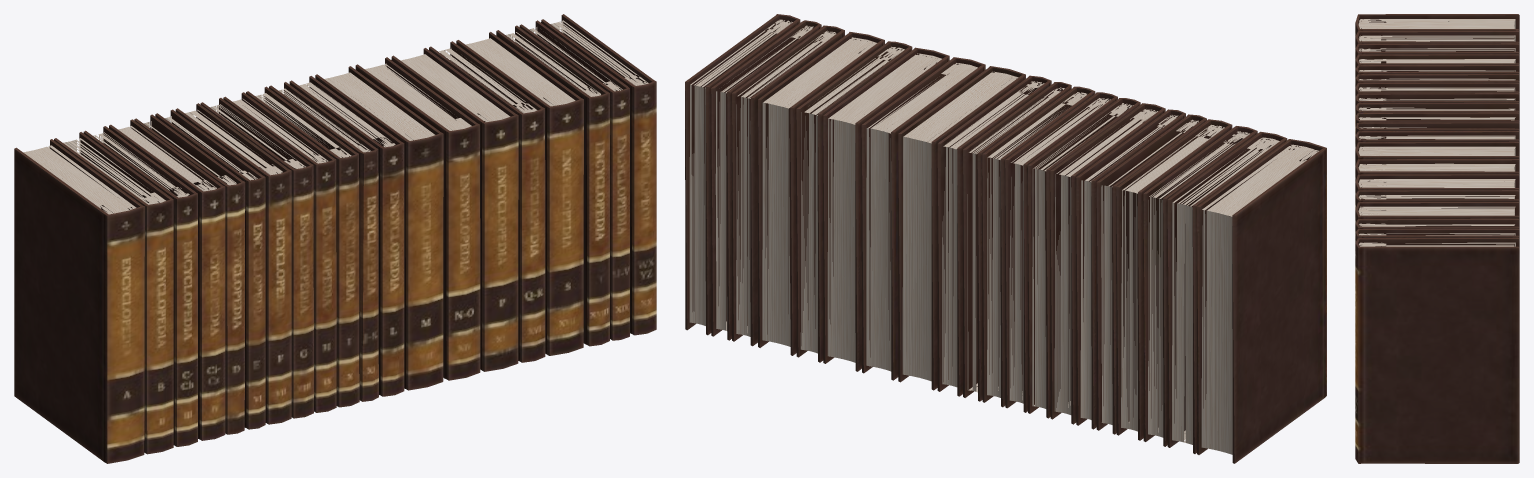
File: book_encyclopedia_set_01.glb
3 views of the same model, side by side, from view 1: azimuth 30°, elevation 25°; view 2: azimuth 150°, elevation 25°; view 3: azimuth 270°, elevation 25° (orthographic). The views are drawn at different scales.
Visible parts, largest first — view 1: book_encyclopedia_set_01_book01, book_encyclopedia_set_01_book13, book_encyclopedia_set_01_book15, book_encyclopedia_set_01_book17, book_encyclopedia_set_01_book14, book_encyclopedia_set_01_book02, book_encyclopedia_set_01_book04, book_encyclopedia_set_01_book16, book_encyclopedia_set_01_book20, book_encyclopedia_set_01_book07, book_encyclopedia_set_01_book18, book_encyclopedia_set_01_book12 (+8 smaller); view 2: book_encyclopedia_set_01_book01, book_encyclopedia_set_01_book13, book_encyclopedia_set_01_book15, book_encyclopedia_set_01_book17, book_encyclopedia_set_01_book14, book_encyclopedia_set_01_book02, book_encyclopedia_set_01_book04, book_encyclopedia_set_01_book16, book_encyclopedia_set_01_book07, book_encyclopedia_set_01_book20, book_encyclopedia_set_01_book18, book_encyclopedia_set_01_book12 (+8 smaller); view 3: book_encyclopedia_set_01_book20, book_encyclopedia_set_01_book13, book_encyclopedia_set_01_book01, book_encyclopedia_set_01_book17, book_encyclopedia_set_01_book15, book_encyclopedia_set_01_book14, book_encyclopedia_set_01_book02, book_encyclopedia_set_01_book16, book_encyclopedia_set_01_book03, book_encyclopedia_set_01_book07, book_encyclopedia_set_01_book12, book_encyclopedia_set_01_book10 (+8 smaller).
Boxes of the visible parts, bbox=[...] form: book_encyclopedia_set_01_book01: bbox=[14, 139, 144, 463]; book_encyclopedia_set_01_book13: bbox=[315, 66, 443, 390]; book_encyclopedia_set_01_book15: bbox=[391, 48, 518, 371]; book_encyclopedia_set_01_book17: bbox=[456, 32, 583, 355]; book_encyclopedia_set_01_book14: bbox=[355, 57, 480, 380]; book_encyclopedia_set_01_book02: bbox=[54, 132, 173, 454]; book_encyclopedia_set_01_book04: bbox=[109, 119, 225, 440]; book_encyclopedia_set_01_book16: bbox=[429, 41, 545, 362]; book_encyclopedia_set_01_book20: bbox=[541, 14, 656, 335]; book_encyclopedia_set_01_book07: bbox=[175, 103, 291, 424]; book_encyclopedia_set_01_book18: bbox=[496, 25, 609, 346]; book_encyclopedia_set_01_book12: bbox=[289, 76, 404, 396]; book_encyclopedia_set_01_book01: bbox=[1197, 139, 1326, 463]; book_encyclopedia_set_01_book13: bbox=[898, 66, 1025, 390]; book_encyclopedia_set_01_book15: bbox=[823, 47, 949, 371]; book_encyclopedia_set_01_book17: bbox=[758, 32, 884, 355]; book_encyclopedia_set_01_book14: bbox=[861, 57, 985, 380]; book_encyclopedia_set_01_book02: bbox=[1167, 131, 1287, 453]; book_encyclopedia_set_01_book04: bbox=[1116, 119, 1232, 440]; book_encyclopedia_set_01_book16: bbox=[796, 41, 912, 362]; book_encyclopedia_set_01_book07: bbox=[1050, 103, 1165, 424]; book_encyclopedia_set_01_book20: bbox=[685, 14, 800, 335]; book_encyclopedia_set_01_book18: bbox=[732, 25, 844, 346]; book_encyclopedia_set_01_book12: bbox=[937, 75, 1051, 396]; book_encyclopedia_set_01_book20: bbox=[1355, 237, 1519, 463]; book_encyclopedia_set_01_book13: bbox=[1355, 141, 1519, 165]; book_encyclopedia_set_01_book01: bbox=[1355, 14, 1519, 35]; book_encyclopedia_set_01_book17: bbox=[1355, 202, 1519, 223]; book_encyclopedia_set_01_book15: bbox=[1355, 174, 1519, 209]; book_encyclopedia_set_01_book14: bbox=[1355, 159, 1519, 181]; book_encyclopedia_set_01_book02: bbox=[1355, 30, 1519, 59]; book_encyclopedia_set_01_book16: bbox=[1355, 190, 1519, 208]; book_encyclopedia_set_01_book03: bbox=[1355, 43, 1519, 58]; book_encyclopedia_set_01_book07: bbox=[1355, 82, 1519, 135]; book_encyclopedia_set_01_book12: bbox=[1355, 131, 1519, 149]; book_encyclopedia_set_01_book10: bbox=[1355, 112, 1519, 134].
Bounding box in the file's own units: 0.5514 × 0.2374 × 0.1635.
2 materials, 2 textured.
